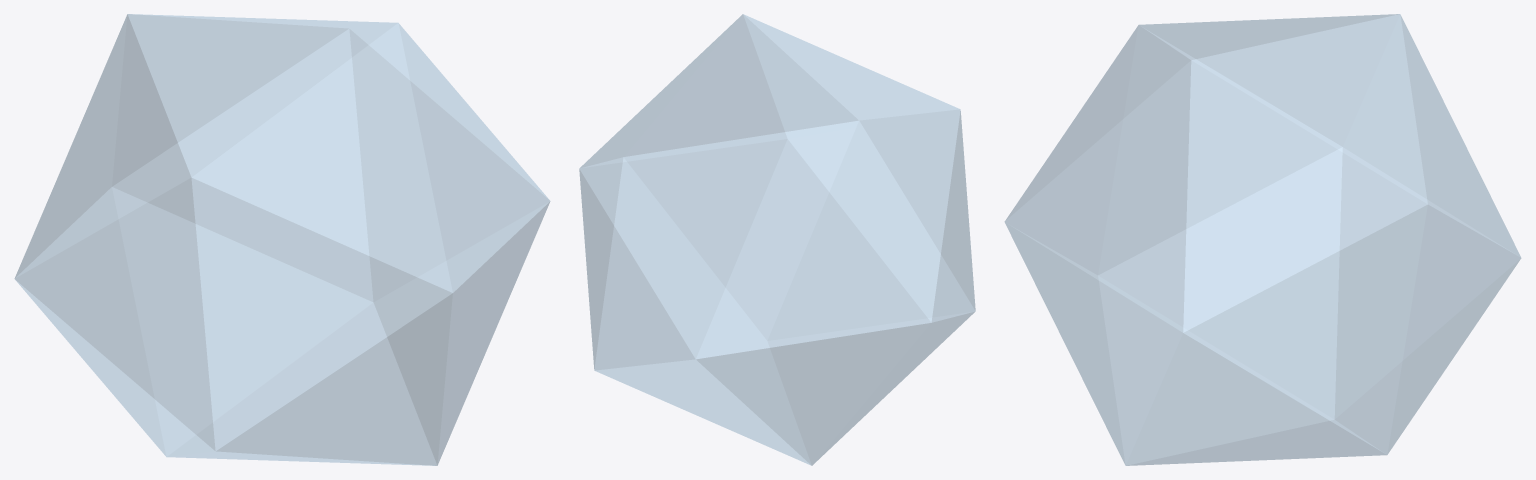
Rendered from sc-glass-crystal.glb.
3 views of the same model, side by side, from view 1: azimuth 30°, elevation 25°; view 2: azimuth 150°, elevation 25°; view 3: azimuth 270°, elevation 25° (orthographic). The views are drawn at different scales.
Parts seen in each view (by area): view 1: sc_glass_crystal; view 2: sc_glass_crystal; view 3: sc_glass_crystal.
Part boxes in pixels (bbox=[...]): sc_glass_crystal: bbox=[14, 14, 550, 465]; sc_glass_crystal: bbox=[579, 14, 975, 465]; sc_glass_crystal: bbox=[1004, 14, 1521, 465].
Bounding box in the file's own units: 0.253 × 0.2403 × 0.2599.
